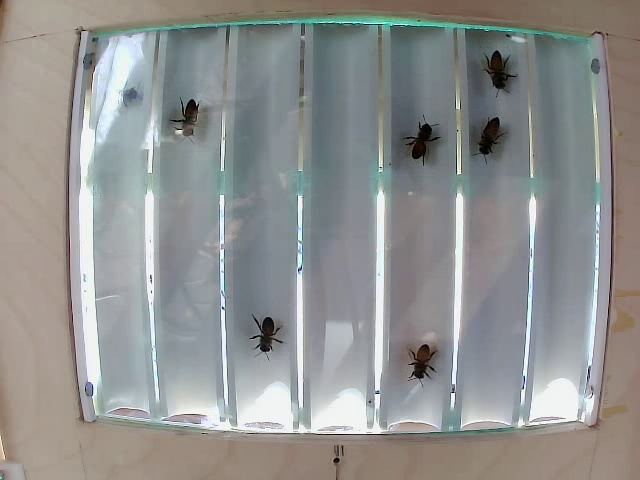bee: (187, 95, 227, 149), (408, 114, 438, 168), (408, 331, 440, 381), (253, 311, 290, 348), (482, 51, 511, 95), (472, 115, 501, 156)
